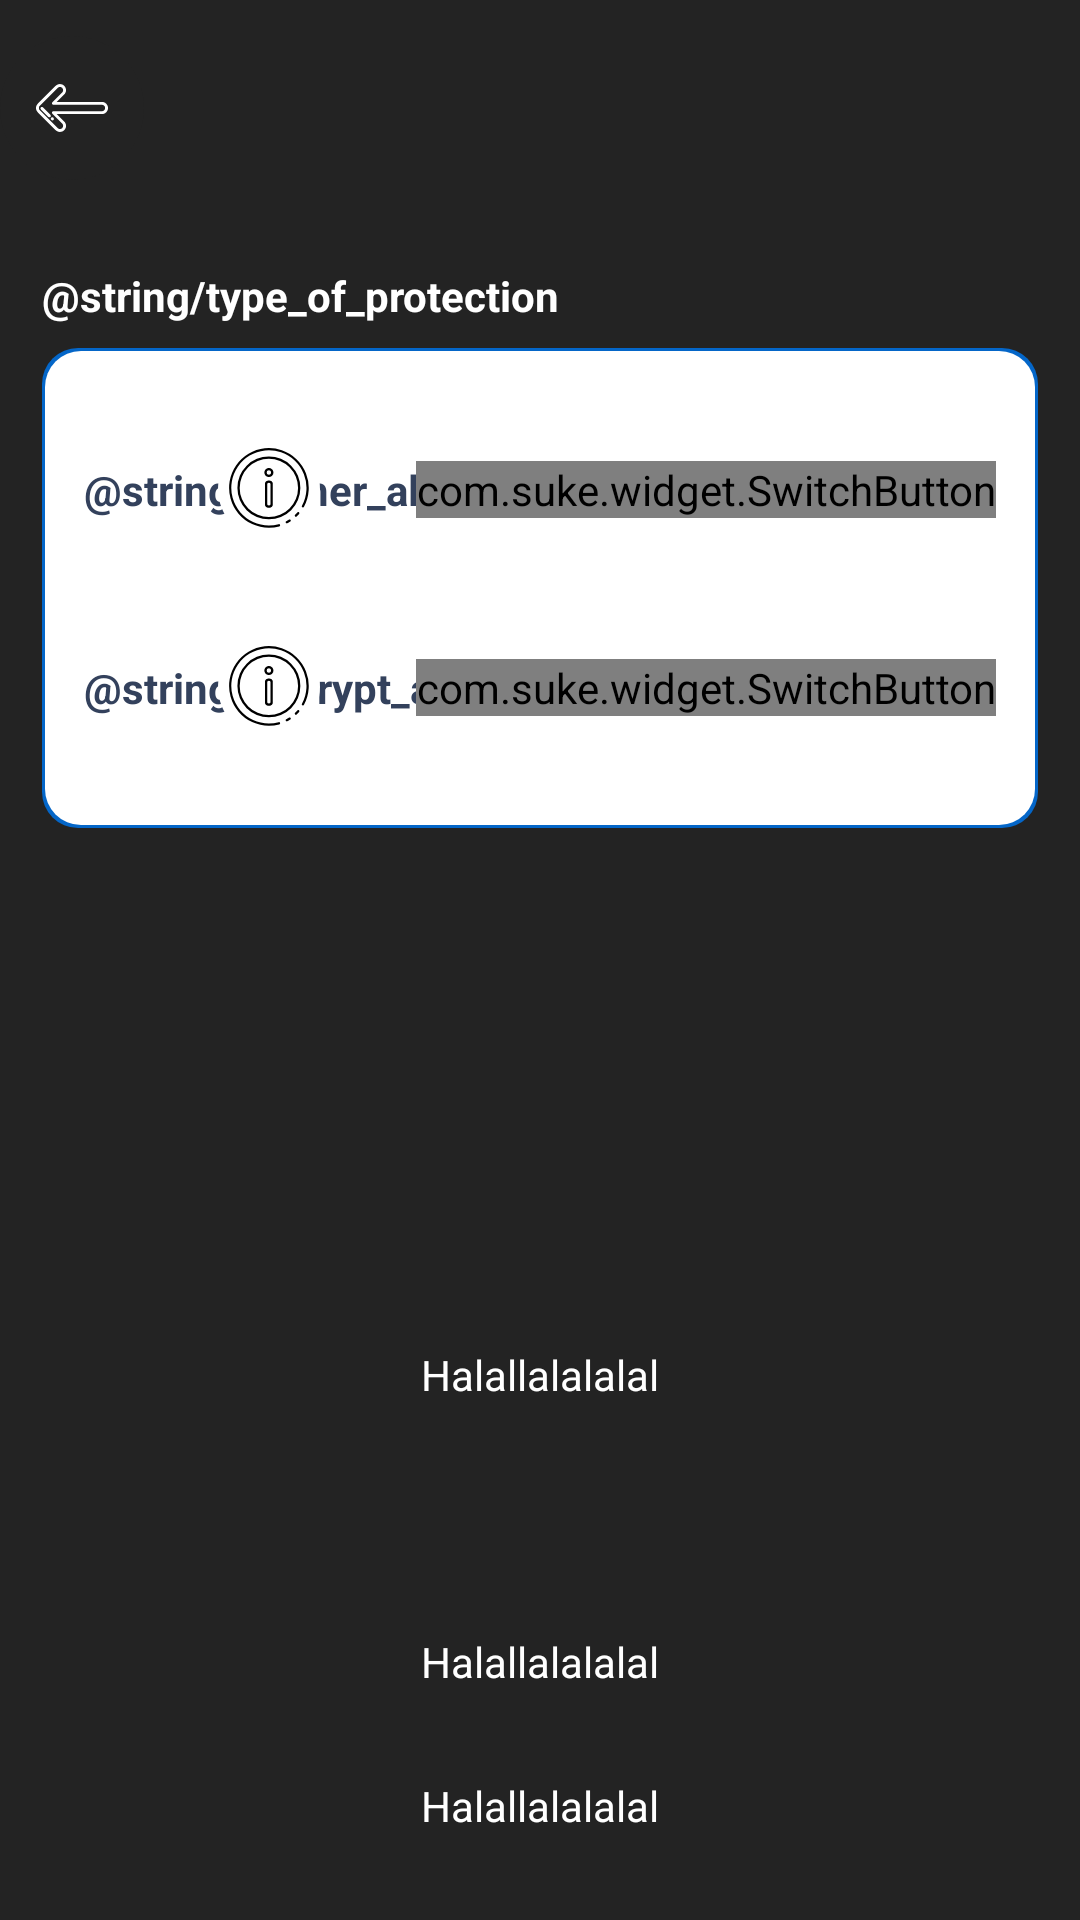

Locate icon controls on the screen. Image size 1080x1920, boxes as (x1, y1, x2, y2).
arrow back: (36, 84, 108, 132)
help: (229, 448, 309, 528), (229, 646, 309, 726)
